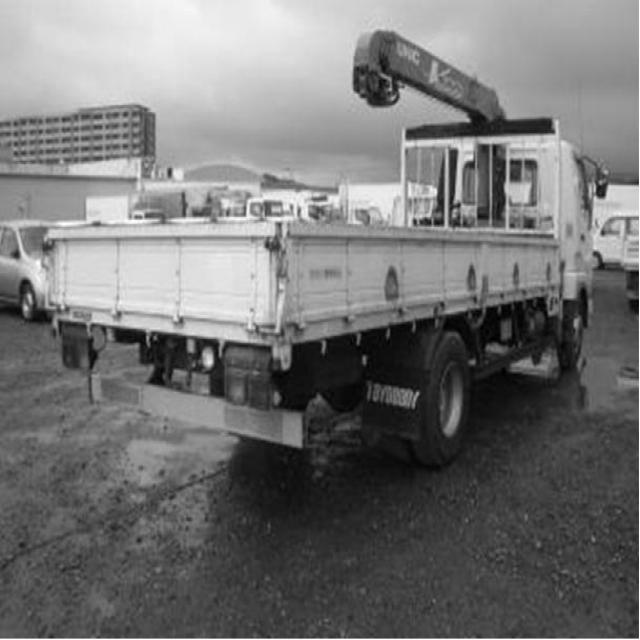truck: (46, 26, 610, 462)
